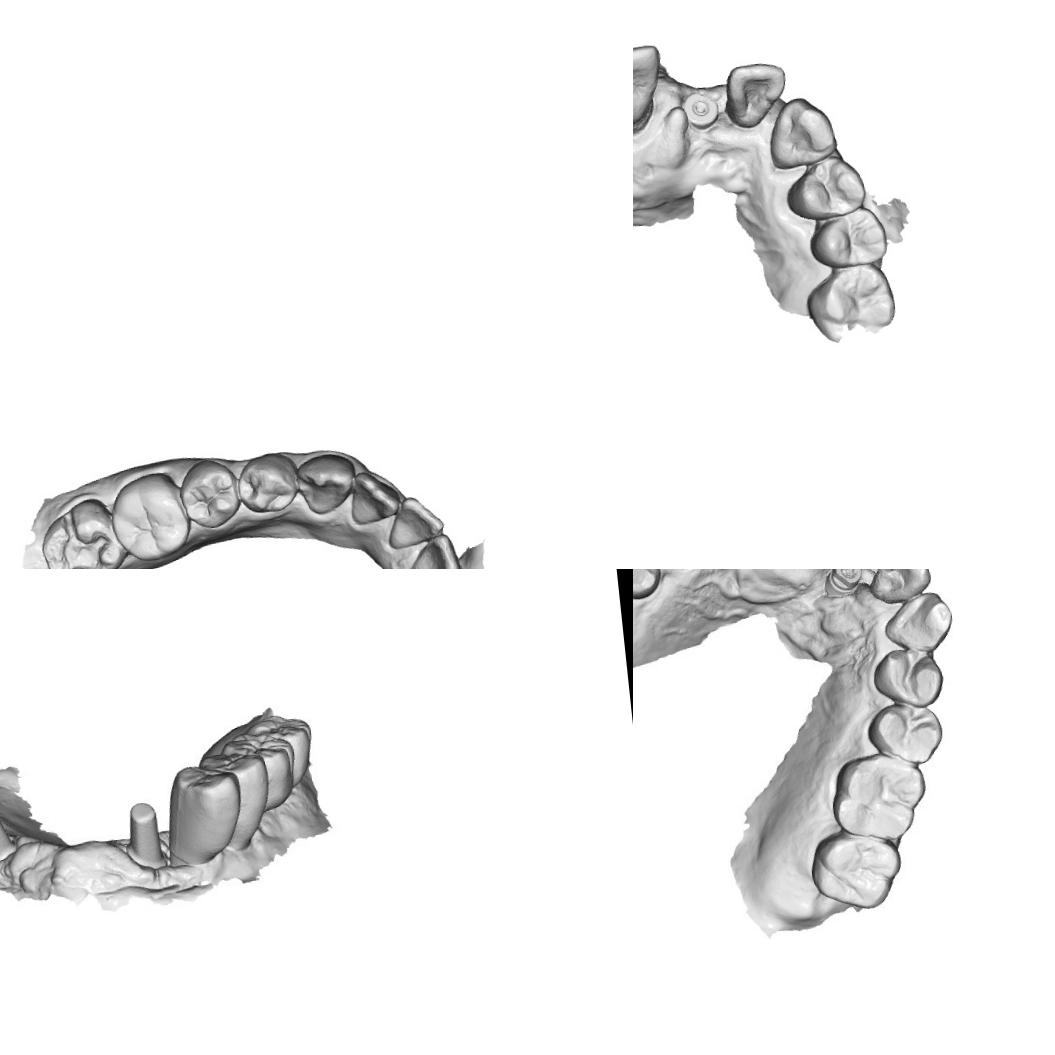abutment: (124, 799, 168, 877), (0, 802, 19, 874)
canine: (761, 92, 840, 171), (880, 589, 954, 656), (293, 450, 359, 520)
implant: (678, 86, 724, 138), (814, 569, 870, 605)
incisor: (721, 57, 791, 132), (384, 491, 446, 554), (344, 467, 403, 529), (633, 42, 669, 134), (403, 531, 464, 569), (873, 569, 929, 607)
inlay: (50, 504, 118, 569)
molar: (806, 824, 909, 916), (833, 752, 932, 844), (802, 260, 899, 345), (109, 468, 193, 564), (246, 710, 317, 786), (222, 740, 300, 803)
premolar: (154, 762, 247, 874), (202, 752, 279, 856), (860, 698, 950, 770), (781, 152, 870, 224), (805, 204, 891, 274), (870, 644, 948, 711), (176, 456, 244, 532), (234, 448, 302, 518)
